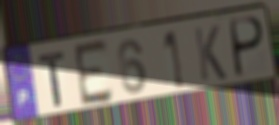1: (162, 28, 186, 91)
6: (116, 38, 150, 96)
E: (71, 37, 115, 110)
K: (192, 23, 229, 84)
P: (229, 15, 267, 81)
T: (37, 49, 67, 110)
